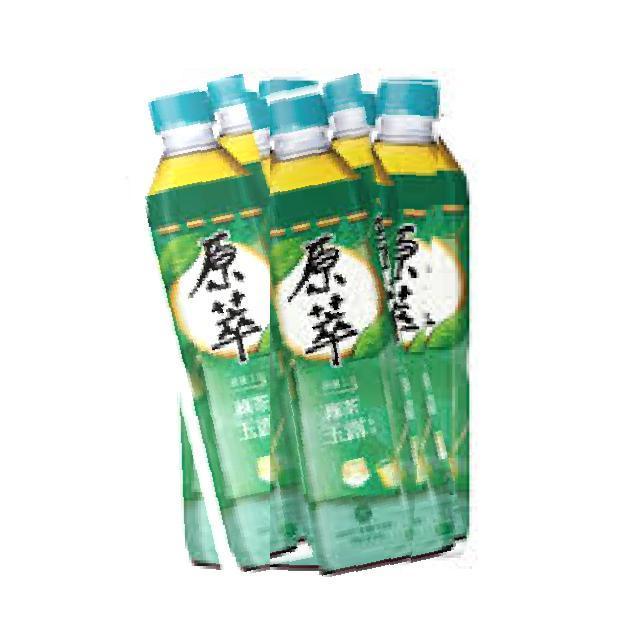YuanTsui_GreenTea: (130, 78, 320, 580), (270, 77, 443, 577)
